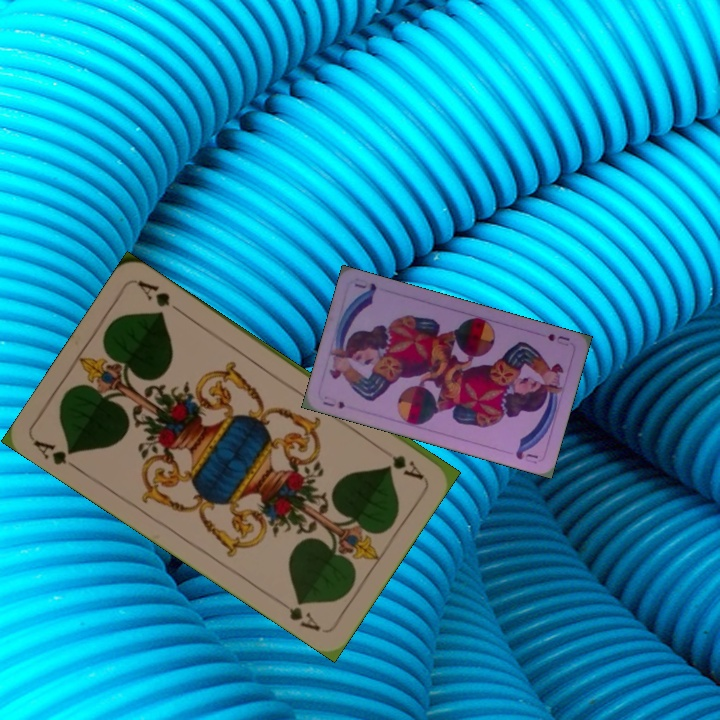GA: (29, 435, 83, 474), (374, 442, 426, 482)
SU: (544, 329, 572, 349), (319, 397, 348, 411)
